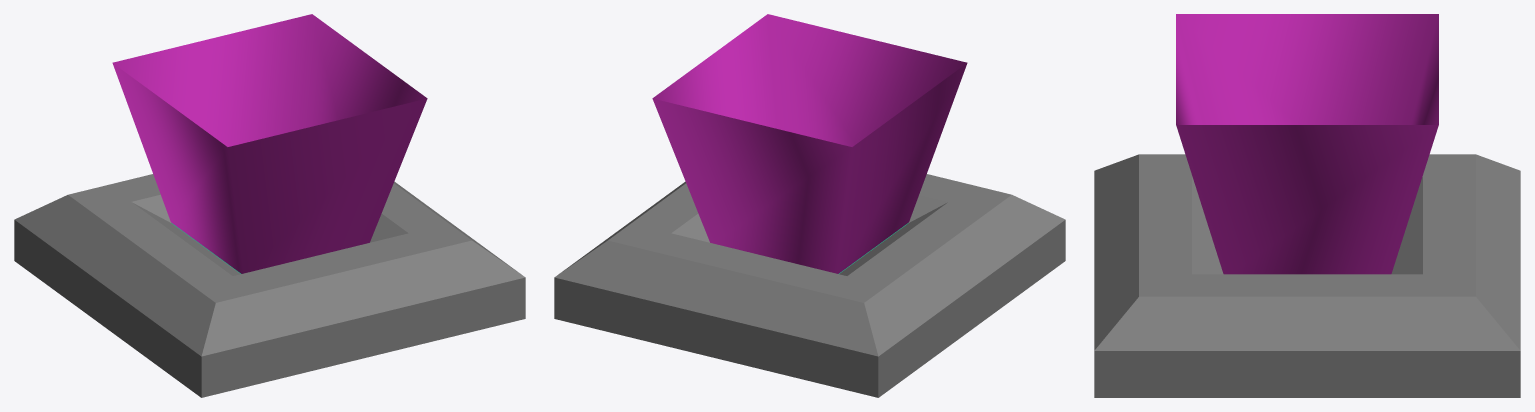
The model's file is SM_Pedestal.fbx.
The picture shows the model from 3 angles, left to right: view 1: azimuth 30°, elevation 25°; view 2: azimuth 150°, elevation 25°; view 3: azimuth 270°, elevation 25°; orthographic projection. The views are drawn at different scales.
Visible parts, largest first — view 1: Pedestal_low; view 2: Pedestal_low; view 3: Pedestal_low.
Part boxes in pixels (box(x1,y1,x2,y2)): Pedestal_low: box(14, 14, 525, 397); Pedestal_low: box(554, 14, 1065, 397); Pedestal_low: box(1094, 14, 1520, 397).
Size of the model in its own units: 88.58 by 54.67 by 88.58.
